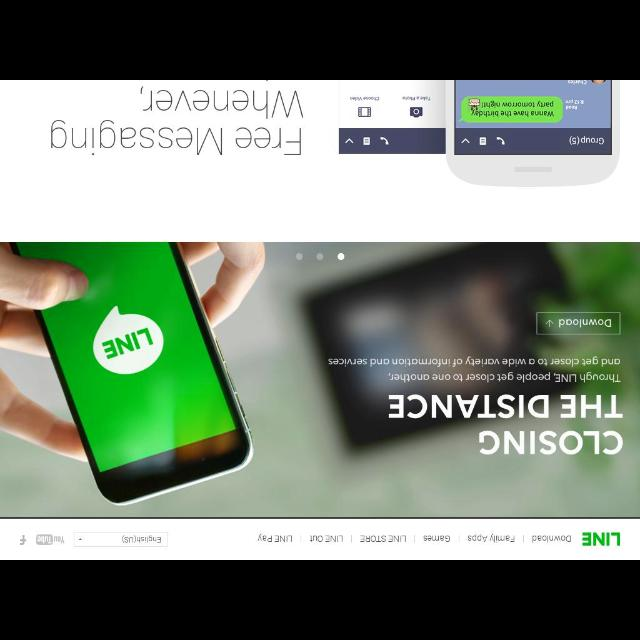backgroundimage: (1, 242, 640, 518)
icon: (37, 536, 64, 544), (20, 535, 26, 545), (547, 320, 553, 328), (78, 538, 82, 540)
image: (455, 81, 611, 155), (339, 82, 445, 154)
pageindicator: (296, 253, 344, 260)
spinner: (74, 532, 168, 546)
text: (51, 120, 301, 156), (389, 394, 623, 418), (140, 86, 304, 118), (480, 431, 622, 455), (328, 357, 620, 368), (388, 372, 620, 382), (582, 532, 620, 546), (559, 318, 611, 328), (468, 534, 514, 542), (122, 535, 160, 543), (360, 536, 406, 542), (258, 534, 292, 542), (532, 536, 572, 542), (310, 536, 342, 542), (424, 536, 450, 542)
textbutton: (536, 312, 620, 333)
toolbar: (1, 518, 639, 560)
